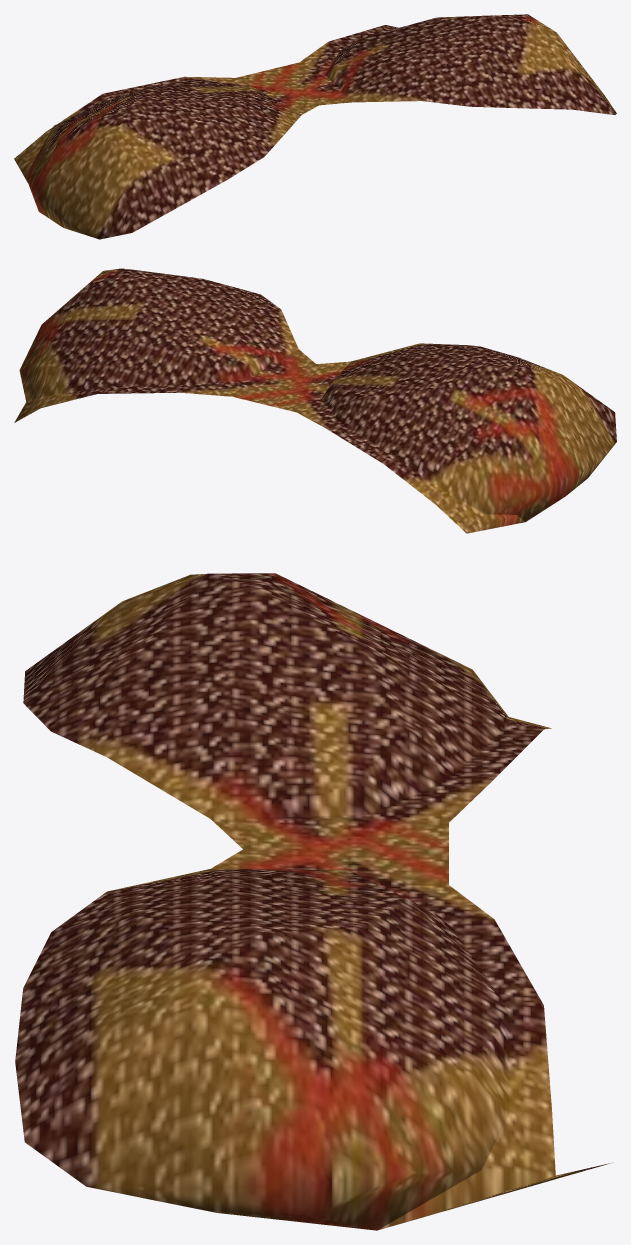
The model's file is bra.gltf.
The picture shows the model from 3 angles, top to bottom: view 1: azimuth 30°, elevation 25°; view 2: azimuth 150°, elevation 25°; view 3: azimuth 270°, elevation 25°; orthographic projection. The views are drawn at different scales.
Parts seen in each view (by area): view 1: Bra; view 2: Bra; view 3: Bra.
Part boxes in pixels (box(x1,y1,x2,y2)): Bra: box(14, 14, 616, 239); Bra: box(14, 268, 616, 533); Bra: box(15, 573, 613, 1230).
Size of the model in its own units: 0.3529 by 0.0732 by 0.1707.
3 materials, 3 textured.
